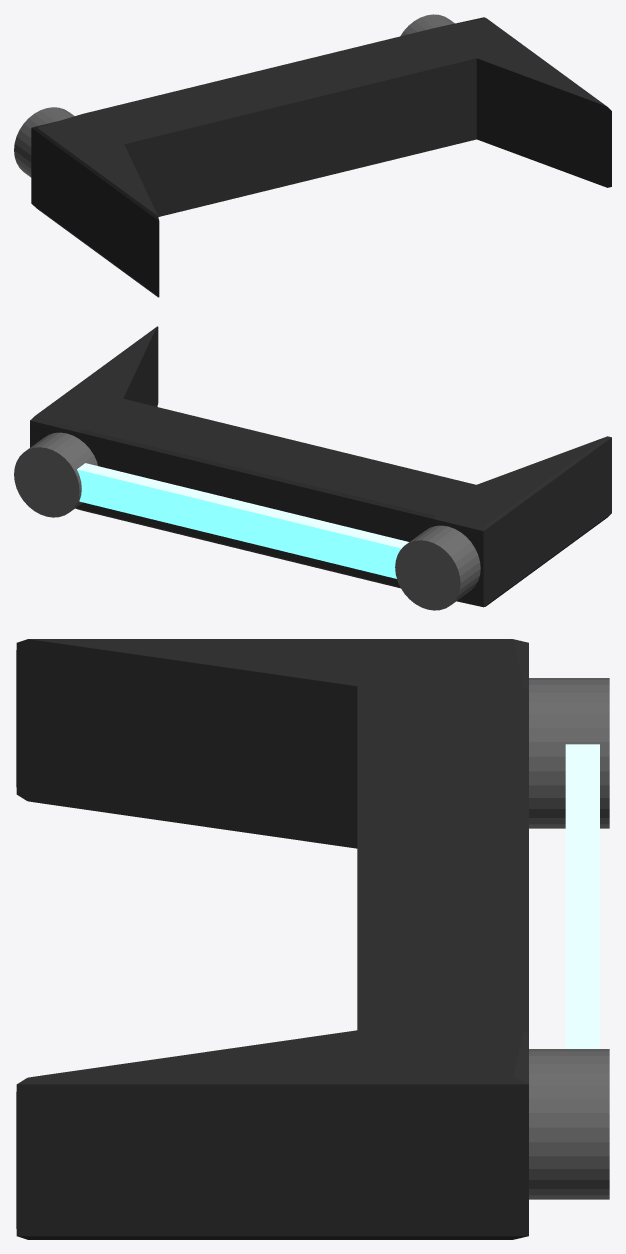
The model's file is disque serveur.fbx.
3 renders of one model, top to bottom at view 1: azimuth 30°, elevation 25°; view 2: azimuth 150°, elevation 25°; view 3: azimuth 270°, elevation 25°, orthographic. The views are drawn at different scales.
Visible parts, largest first — view 1: Cube.017; view 2: Cube.017; view 3: Cube.017.
Part boxes in pixels (x1=…): Cube.017: x1=14, y1=14, x2=611, y2=297; Cube.017: x1=14, y1=326, x2=611, y2=610; Cube.017: x1=16, y1=639, x2=609, y2=1239.
Size of the model in its own units: 408 by 69.9 by 231.
